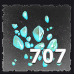ethereal dust: (1, 1, 74, 73)
